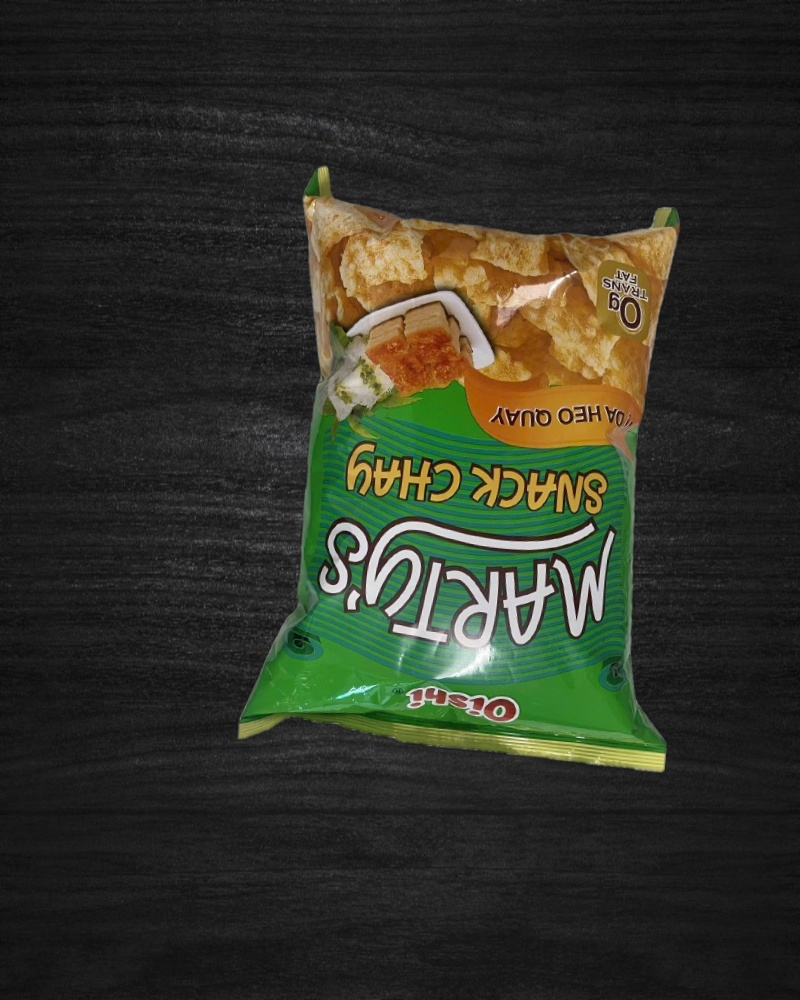Snack chay: (258, 166, 714, 778)
